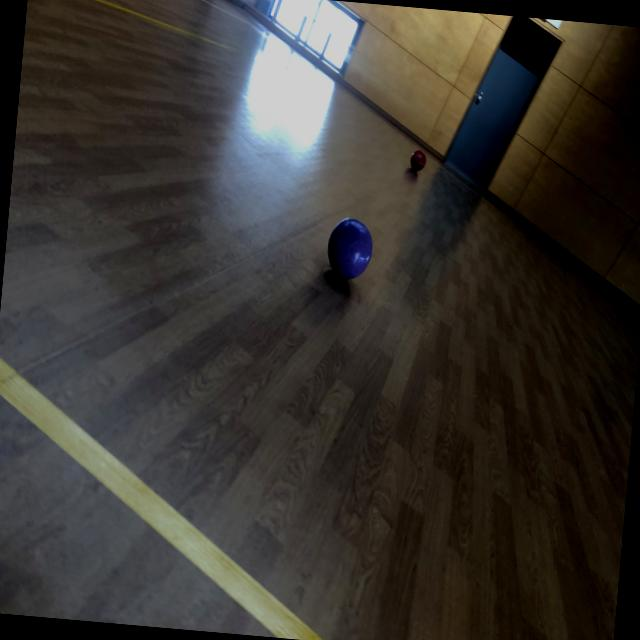purple_ball: (326, 216, 376, 280)
red_ball: (410, 150, 427, 172)
